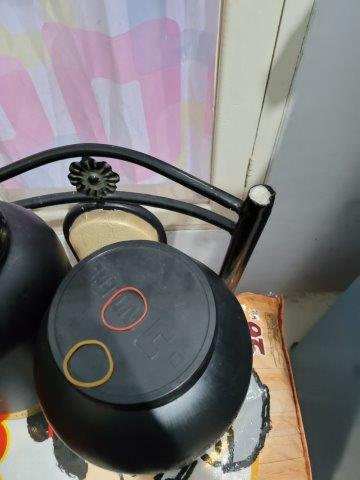karet: (62, 339, 114, 387), (100, 286, 148, 330)
